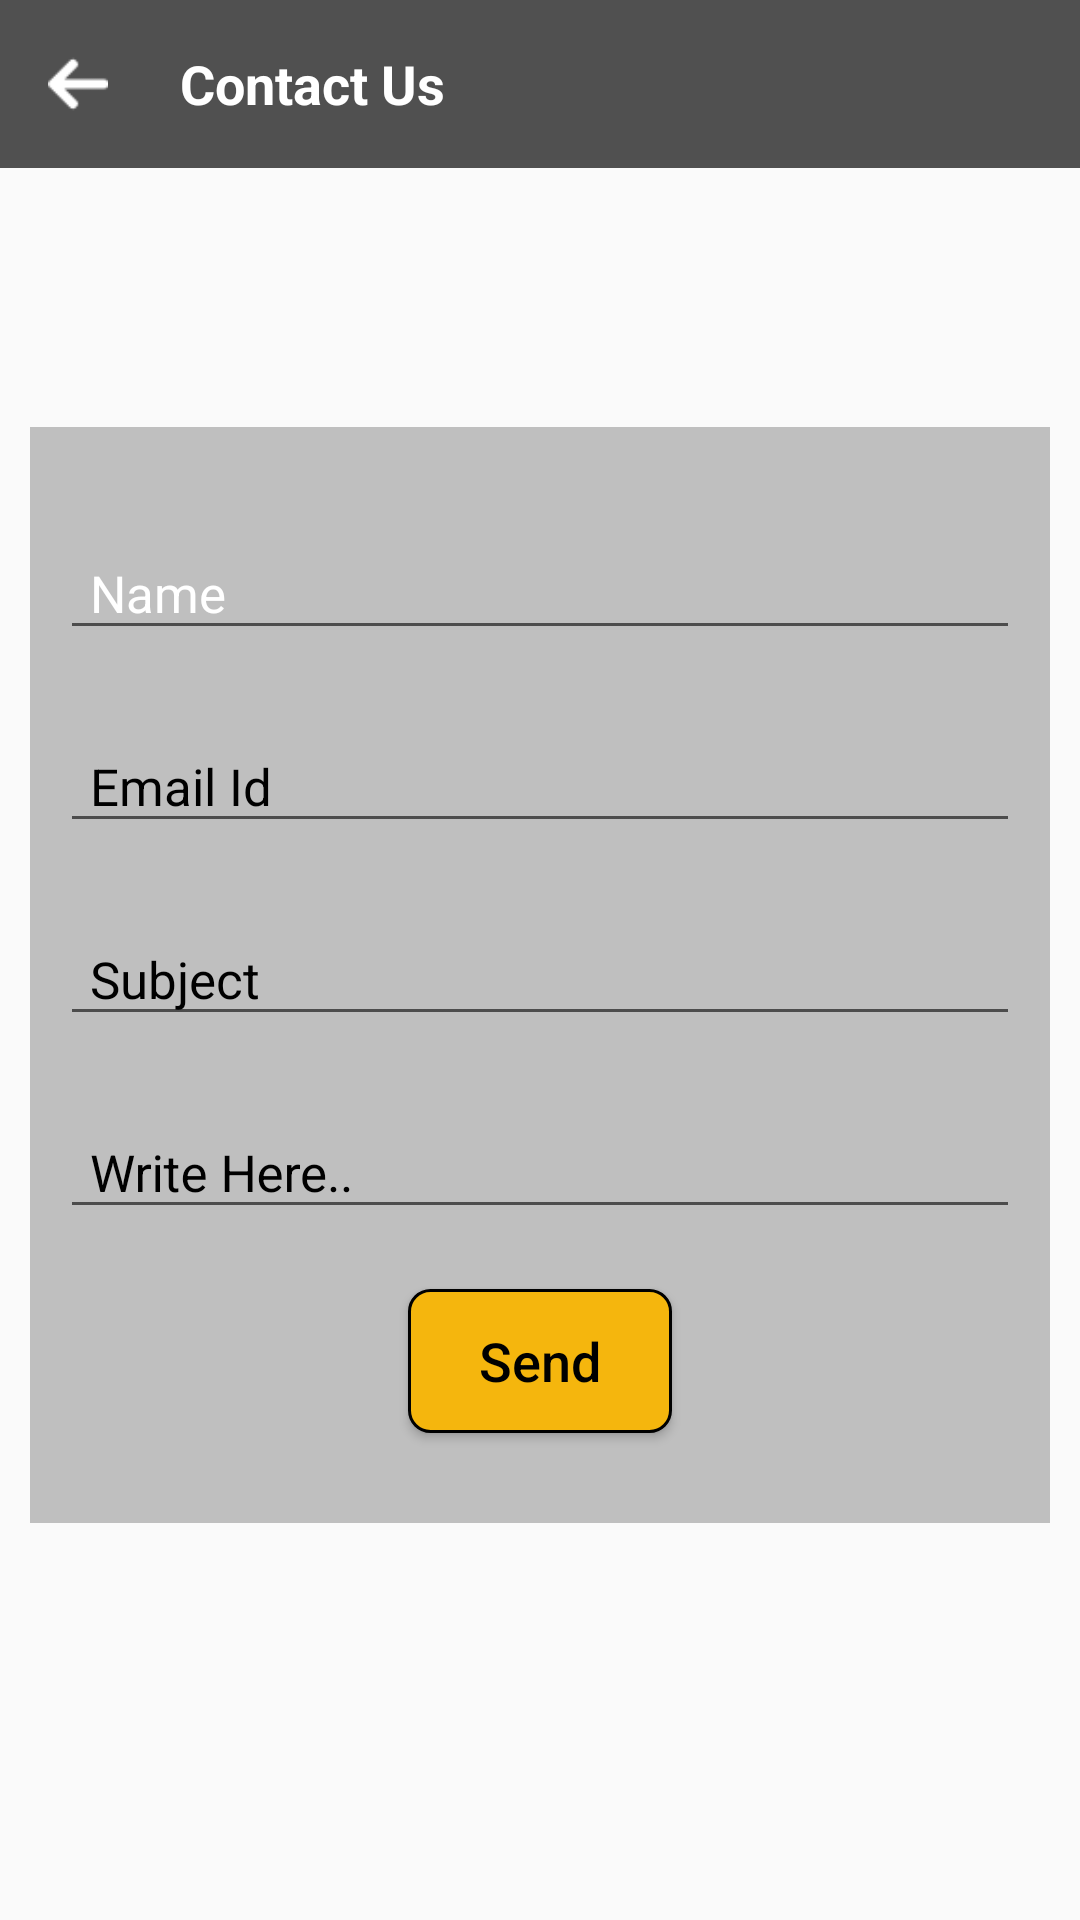

Icons on this 1080x1920 Android screen, each with its box as rect(x1, y1, x2, y2):
back: rect(48, 59, 108, 109)
